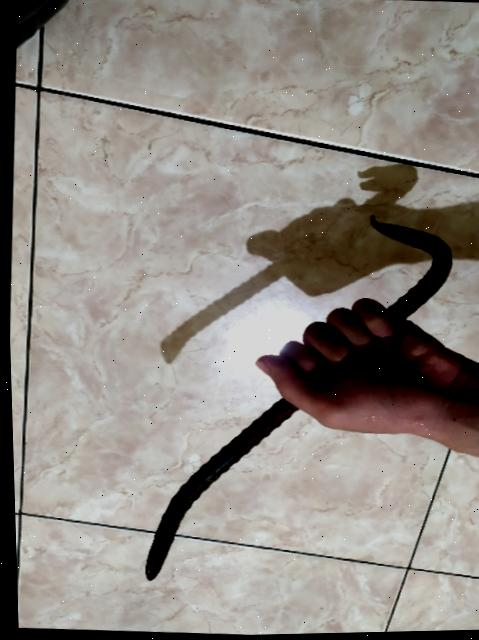crow bar: (139, 210, 462, 595)
